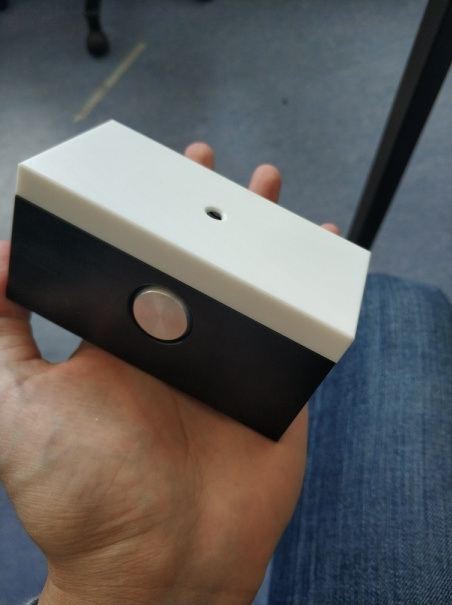white+black+silver: (5, 113, 372, 446)
